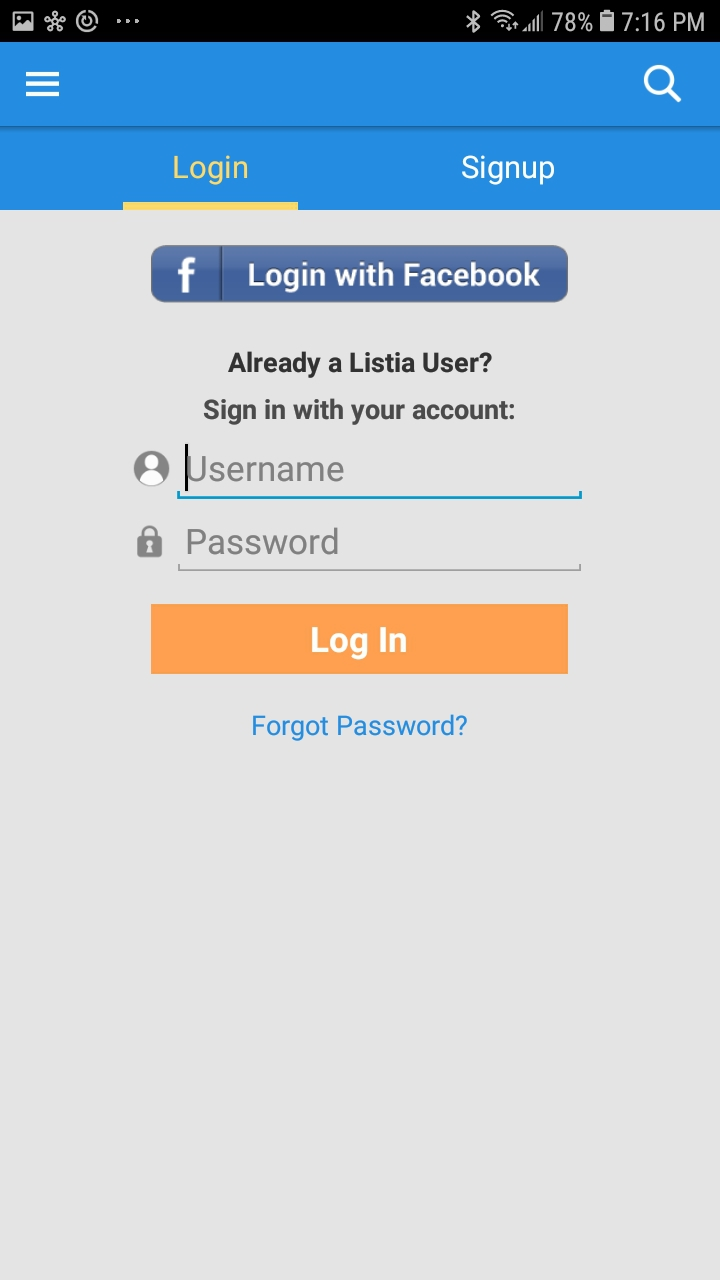EditText: (177, 444, 583, 501), (178, 527, 582, 572)
Icon: (643, 65, 682, 104), (133, 451, 170, 487), (26, 72, 61, 98), (136, 525, 163, 558)
Text: (204, 398, 515, 426), (228, 352, 493, 380), (253, 714, 468, 742), (187, 528, 339, 557), (187, 457, 345, 484), (462, 155, 555, 186), (174, 155, 249, 186)
TextButton: (151, 604, 569, 675), (151, 245, 568, 304)
UpperTaskBar: (1, 1, 720, 43)
